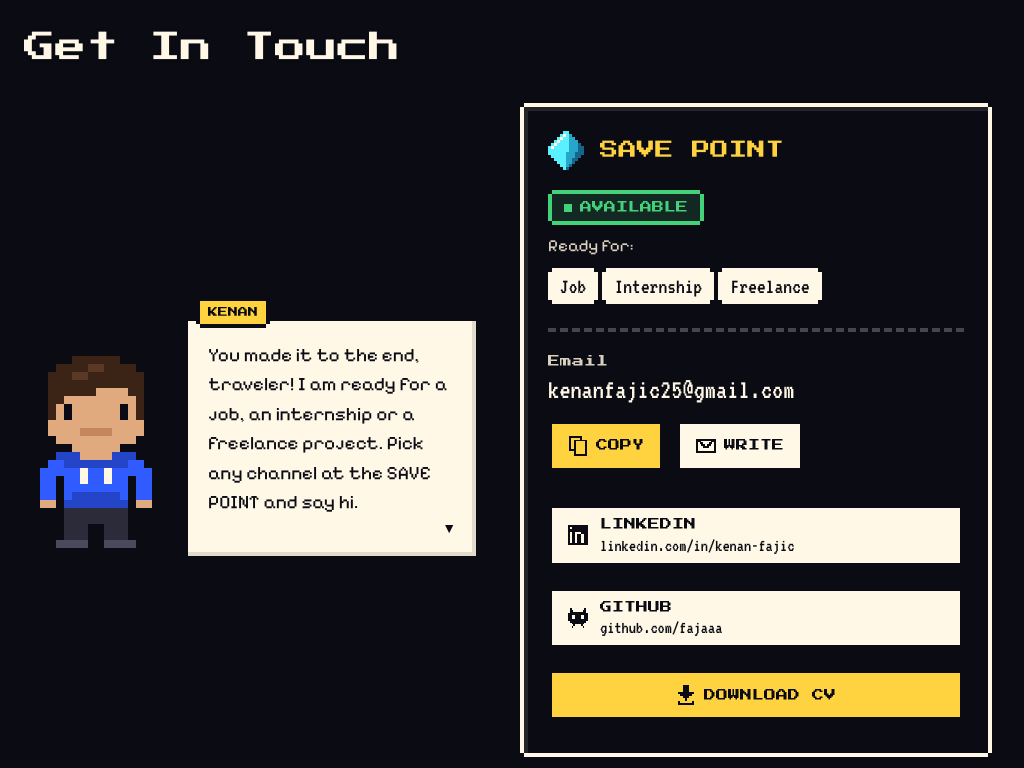
Test case: ContactComponent (SAVE POINT) › copies the email address and confirms it
The image size is (1024, 768).
Click the button with class "save__copy": {"x": 606, "y": 446} [552,424,660,468]
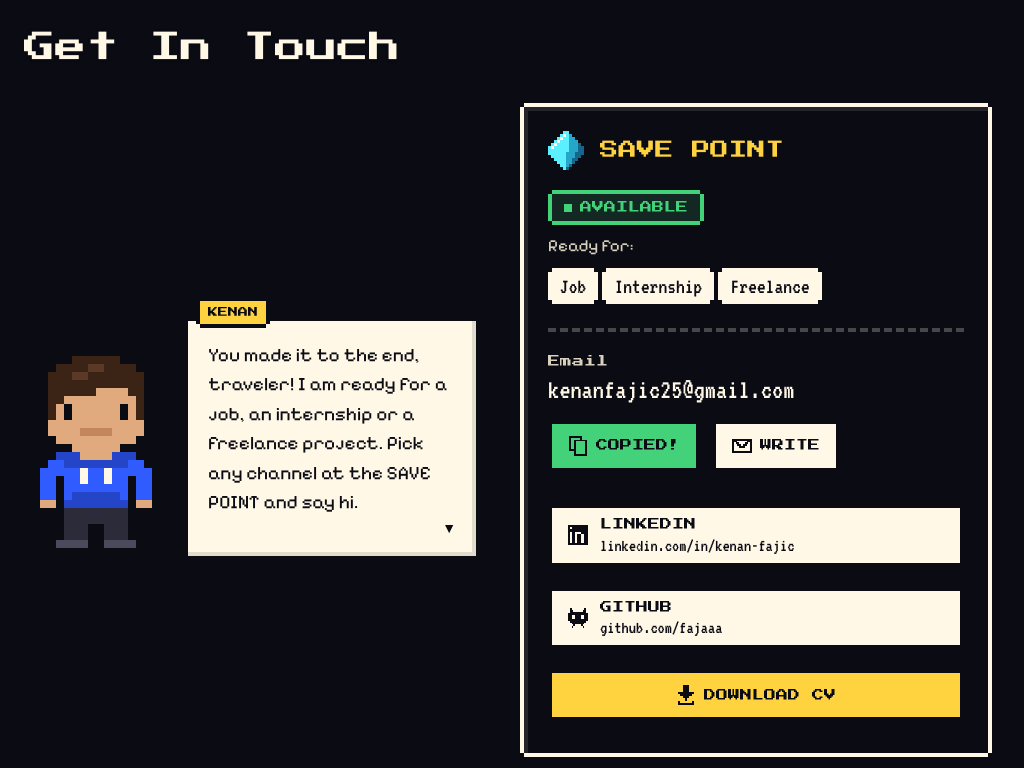
Check: the button with class "save__copy" reads "Copied!", box [552,424,696,468]
